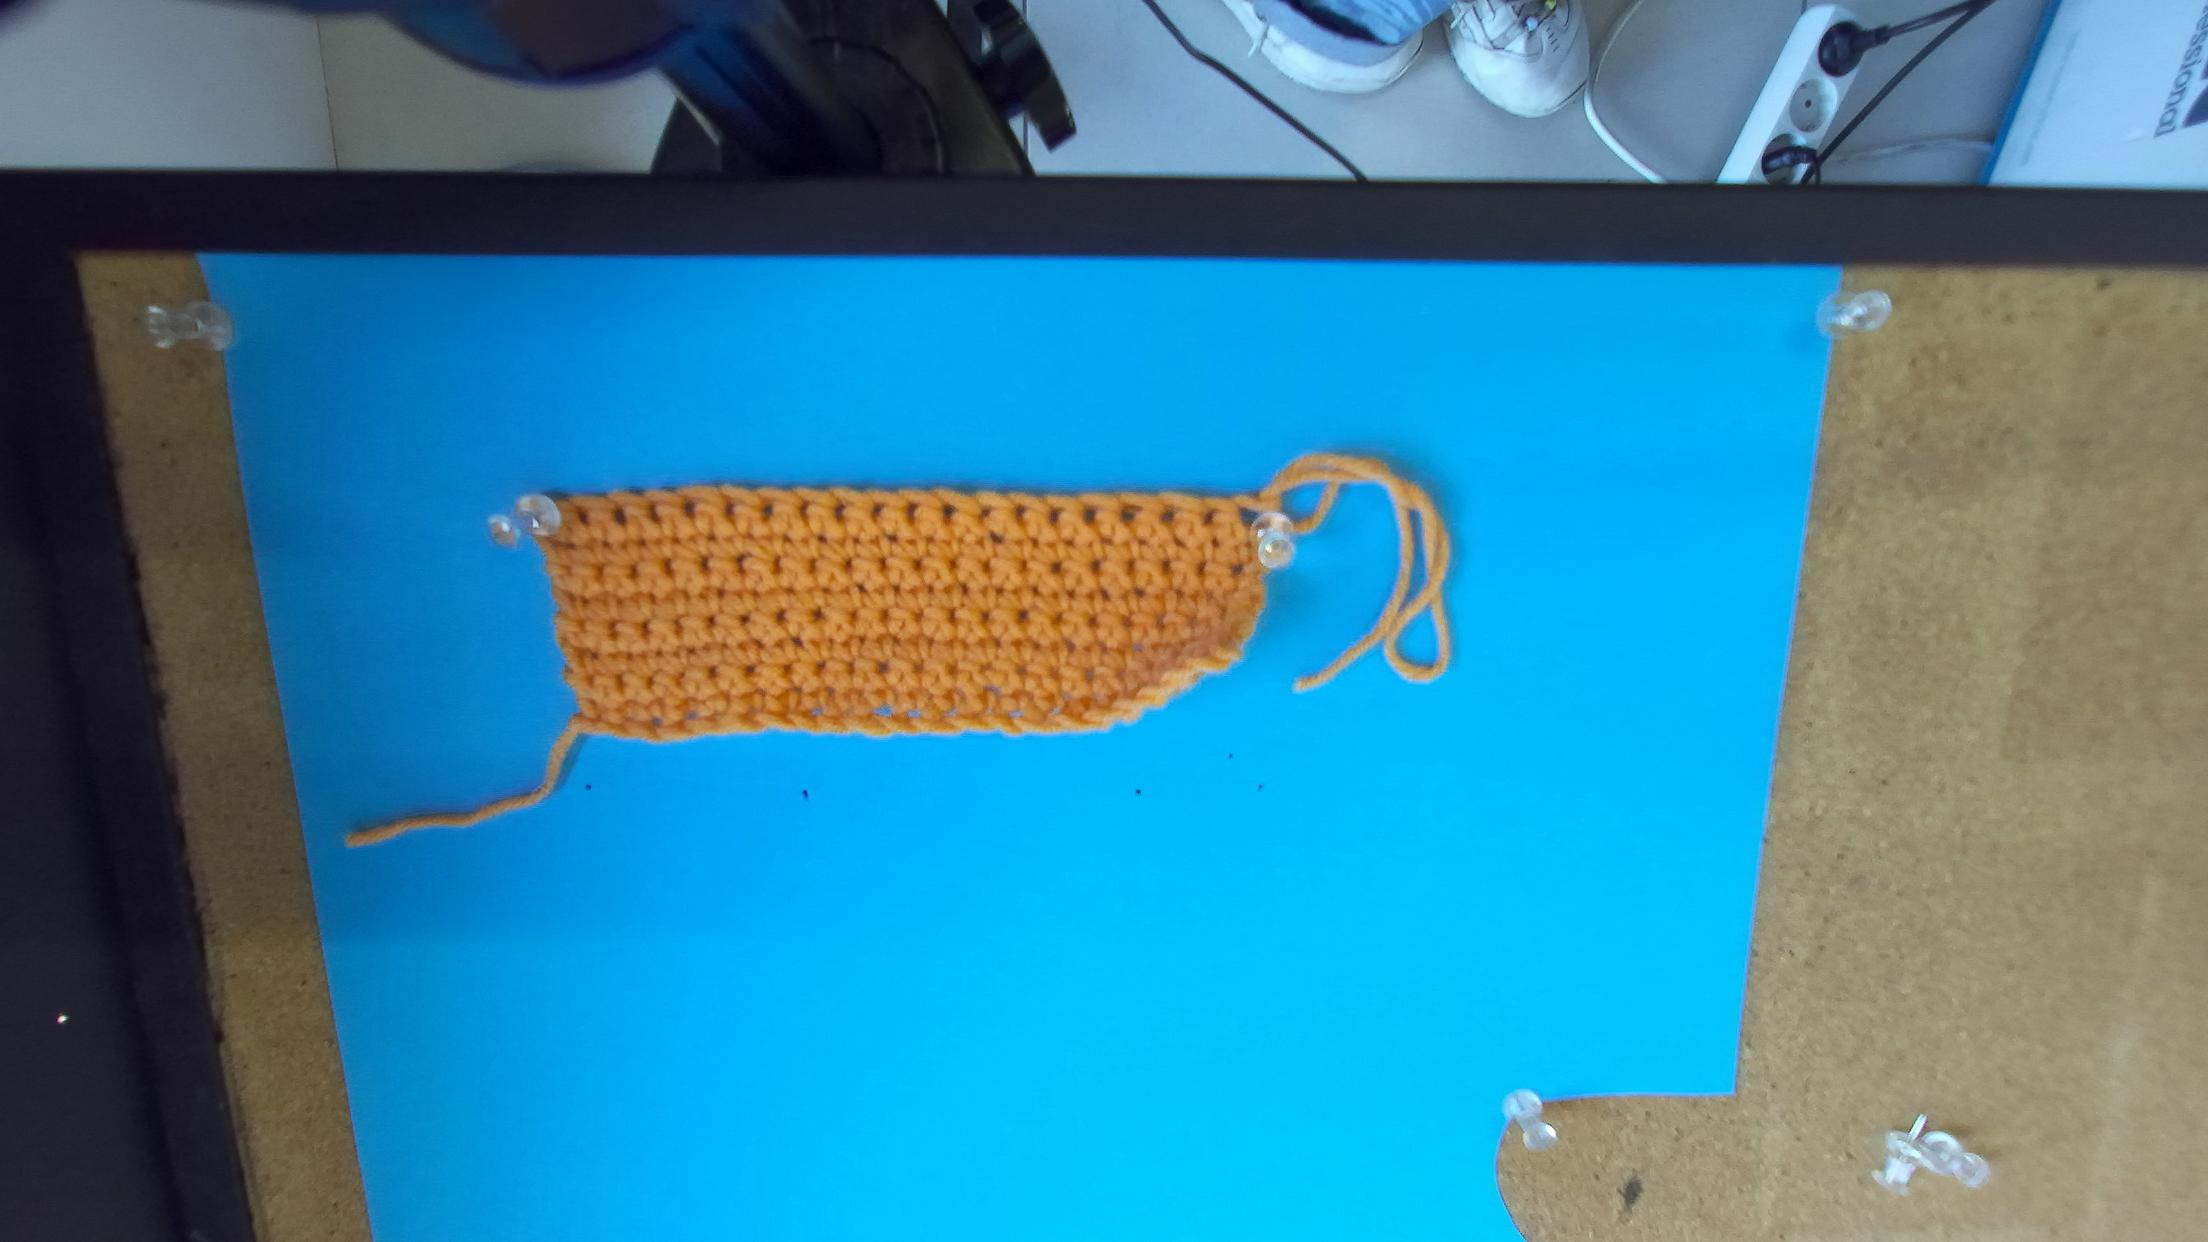hole: (1237, 507, 1259, 528), (611, 505, 628, 525), (870, 503, 887, 523), (833, 502, 848, 523), (798, 499, 814, 517), (1081, 507, 1098, 523), (682, 500, 698, 519), (649, 502, 661, 523), (907, 500, 919, 522), (977, 507, 993, 522), (943, 502, 957, 520), (1048, 508, 1063, 523), (575, 508, 588, 525), (1119, 508, 1136, 522), (1203, 508, 1216, 525), (726, 499, 737, 519), (1015, 503, 1028, 519), (1159, 510, 1174, 522), (763, 502, 773, 516)
swatch: (497, 485, 1272, 748)
